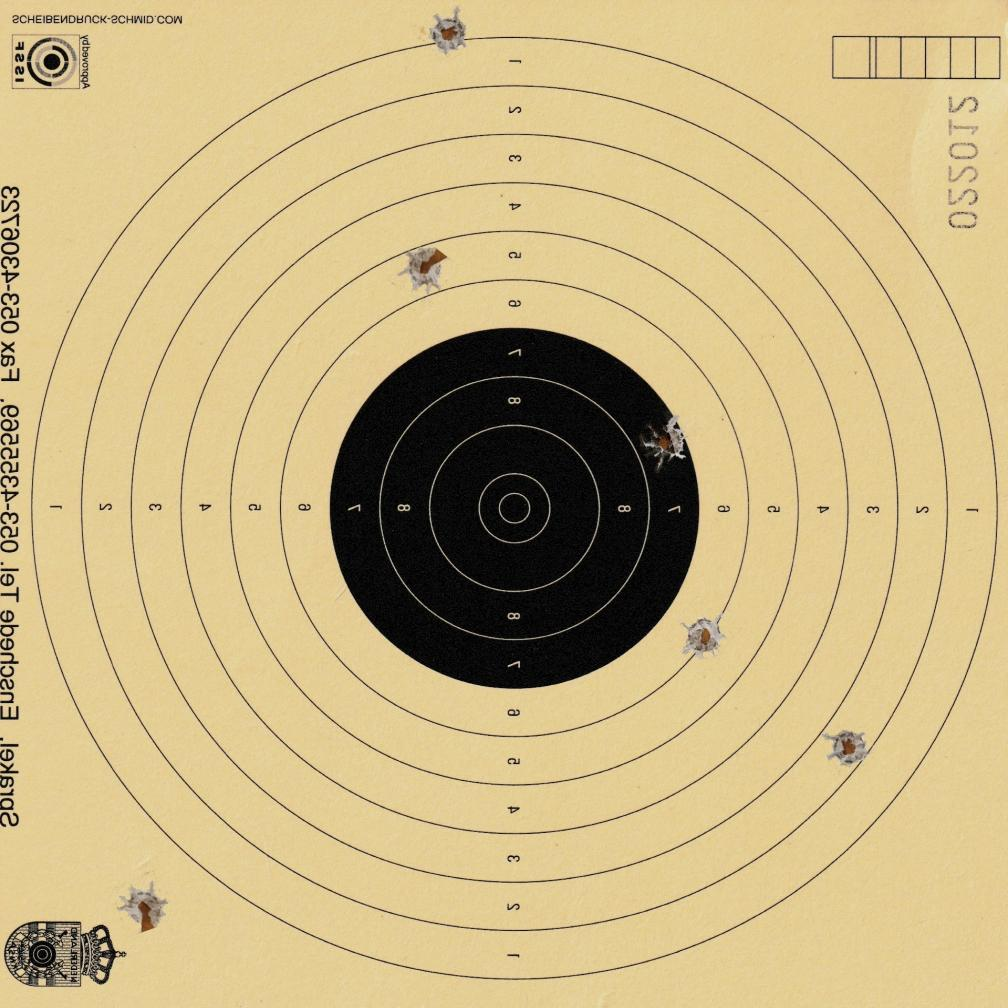1: (421, 5, 468, 56)
2: (115, 880, 169, 932), (820, 728, 872, 768)
5: (396, 245, 449, 295)
6: (678, 613, 728, 660)
7: (638, 414, 689, 474)
Target: (26, 30, 1000, 985)
black_contour: (328, 328, 698, 690)
